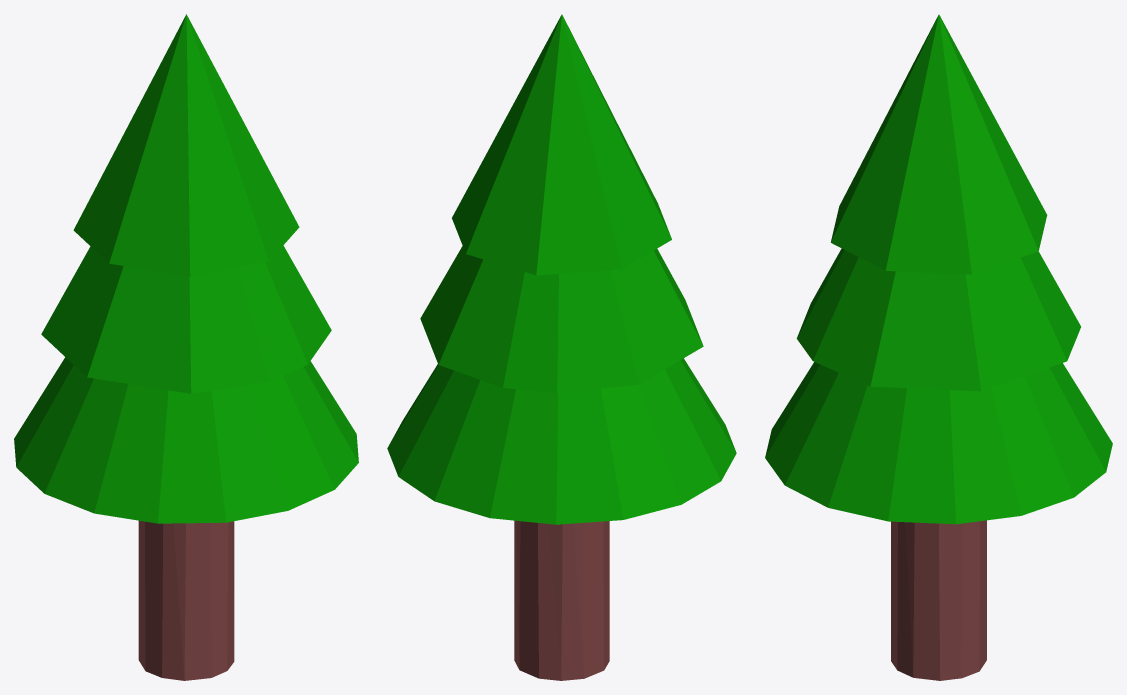
The model's file is plateau.obj.
3 renders of one model, left to right at view 1: azimuth 30°, elevation 25°; view 2: azimuth 150°, elevation 25°; view 3: azimuth 270°, elevation 25°, orthographic.
Visible parts, largest first — view 1: conifer; view 2: conifer; view 3: conifer.
Boxes of the visible parts, x1,y1,x2,y2 form: conifer: [14, 14, 358, 680]; conifer: [387, 14, 736, 680]; conifer: [765, 14, 1112, 680].
Bounding box in the file's own units: 2.2 × 4.51 × 2.2.
1 material, 1 textured.
